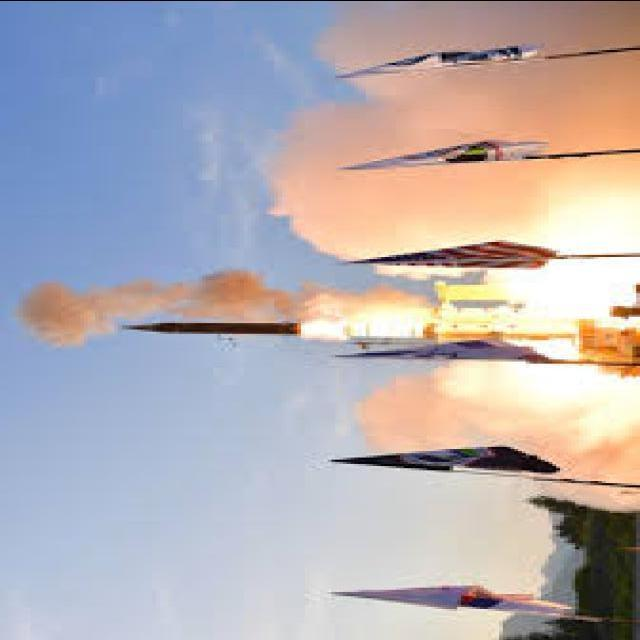Missile: (116, 319, 314, 337)
